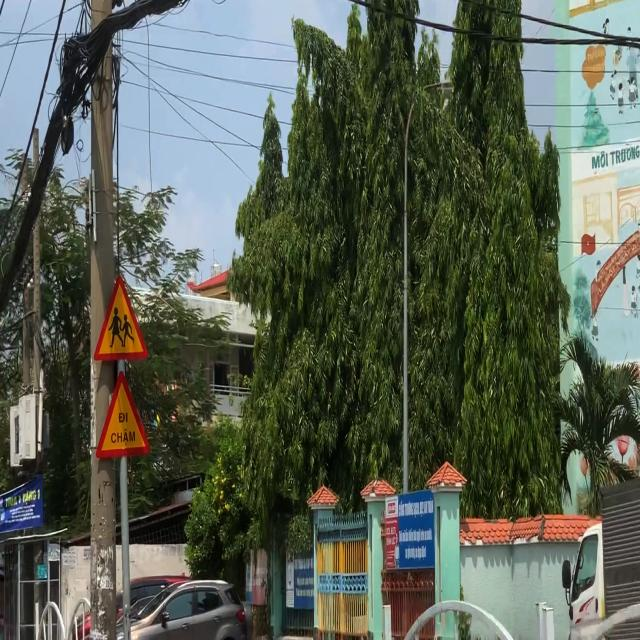Nguy hiem: (95, 369, 151, 459), (93, 274, 149, 362)
